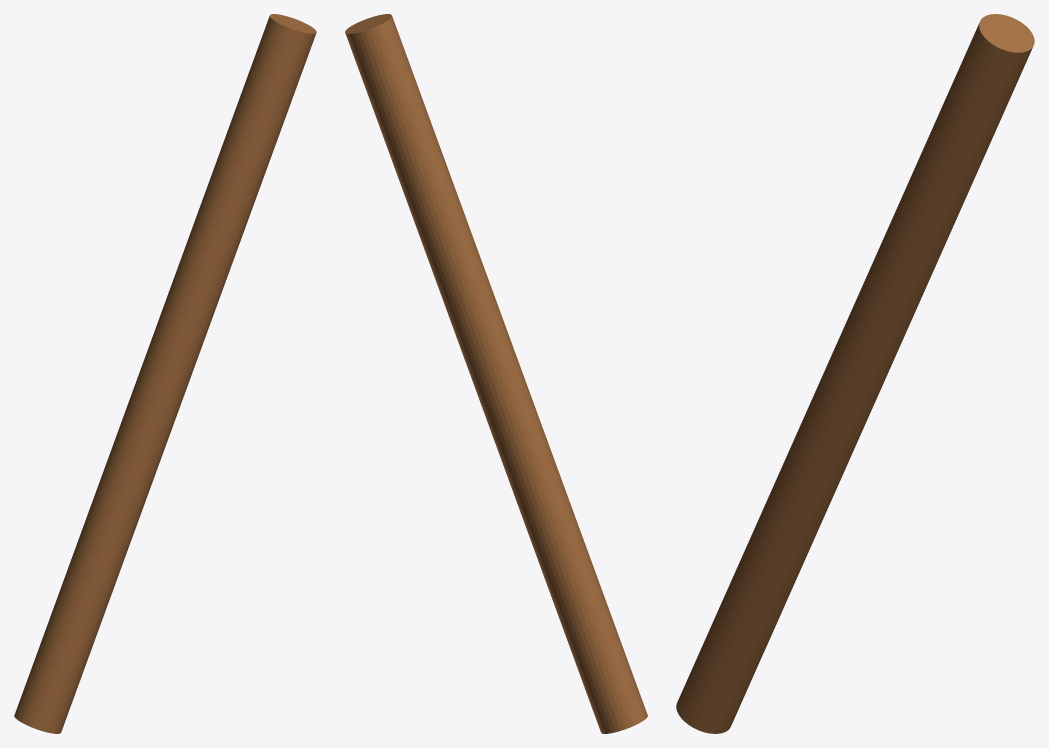
File: spoon.glb
3 views of the same model, side by side, from view 1: azimuth 30°, elevation 25°; view 2: azimuth 150°, elevation 25°; view 3: azimuth 330°, elevation 25° (orthographic). The views are drawn at different scales.
Parts seen in each view (by area): view 1: Cylinder; view 2: Cylinder; view 3: Cylinder.
Part boxes in pixels (x1,y1,x2,y2): Cylinder: (14, 14, 316, 733); Cylinder: (345, 14, 647, 733); Cylinder: (676, 14, 1034, 733).
Bounding box in the file's own units: 3.79 × 8.03 × 0.5585.
